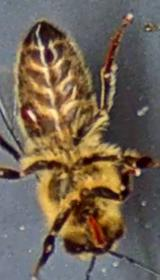varroa_mite: (13, 98, 42, 132)
